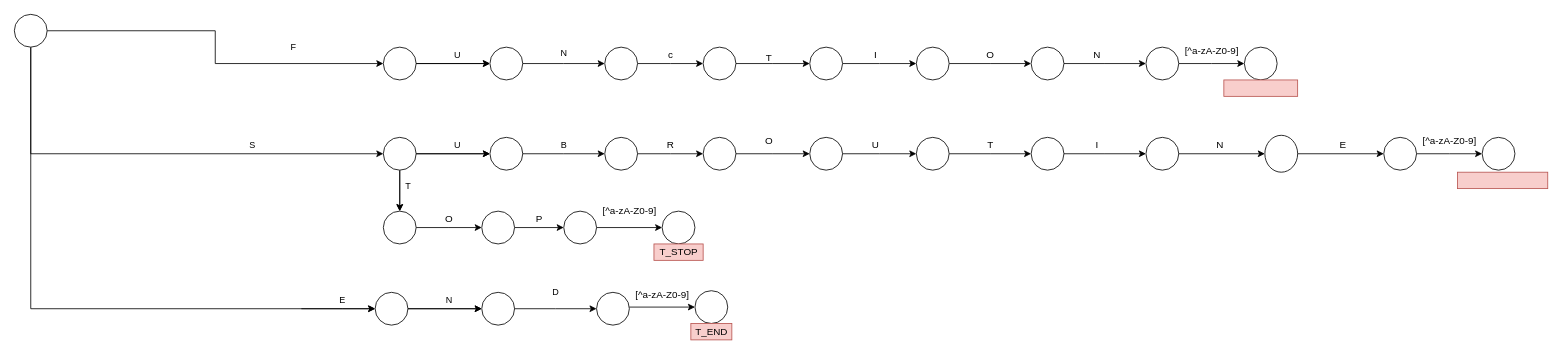
Image size: 1562x354. Some labels were removed from this diagram. The shapes that lost their labels are listed below. From the top down, each one's centre as x and y in pixels, then its label:
At (x=1260, y=87): "T_FUNCTION".
At (x=1502, y=180): "T_SUBROUTINE".
